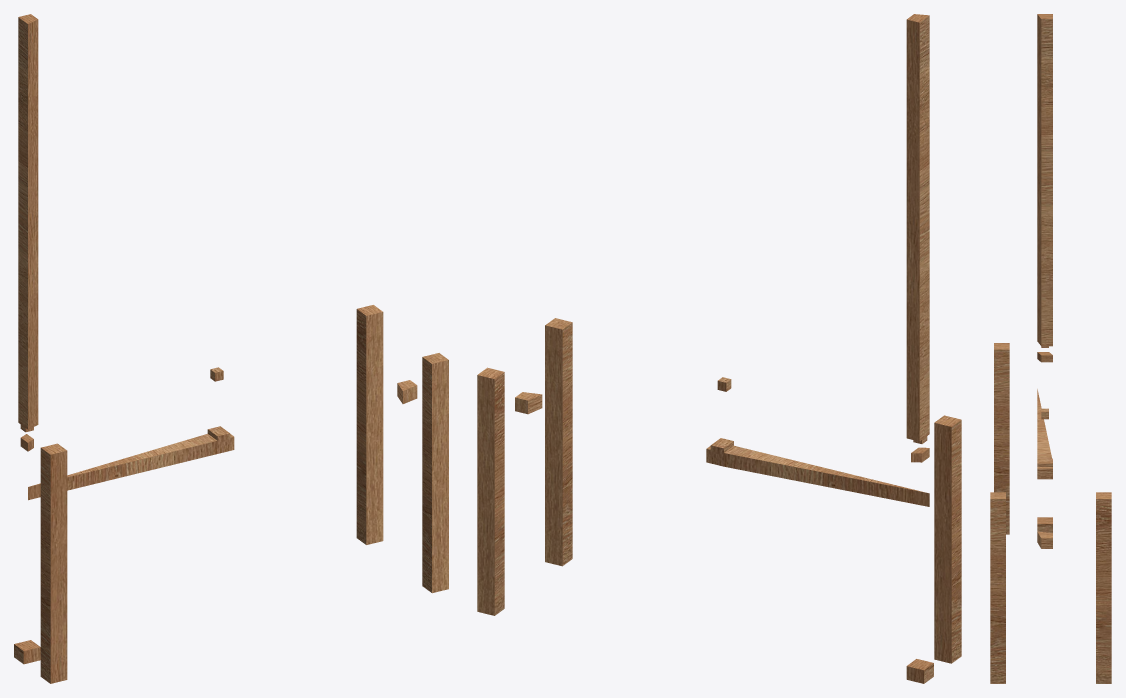
Rendered from 21700_deepcad-end2end.glb.
3 renders of one model, left to right at view 1: azimuth 30°, elevation 25°; view 2: azimuth 150°, elevation 25°; view 3: azimuth 270°, elevation 25°, orthographic. The views are drawn at different scales.
Parts seen in each view (by area): view 1: test_cmd_21700_pred; view 2: test_cmd_21700_pred; view 3: test_cmd_21700_pred.
Part boxes in pixels (x1,y1,x2,y2): test_cmd_21700_pred: [14, 14, 448, 683]; test_cmd_21700_pred: [477, 14, 961, 683]; test_cmd_21700_pred: [990, 14, 1111, 683].
Bounding box in the file's own units: 0.6483 × 1 × 0.2138.
1 material, 1 textured.
